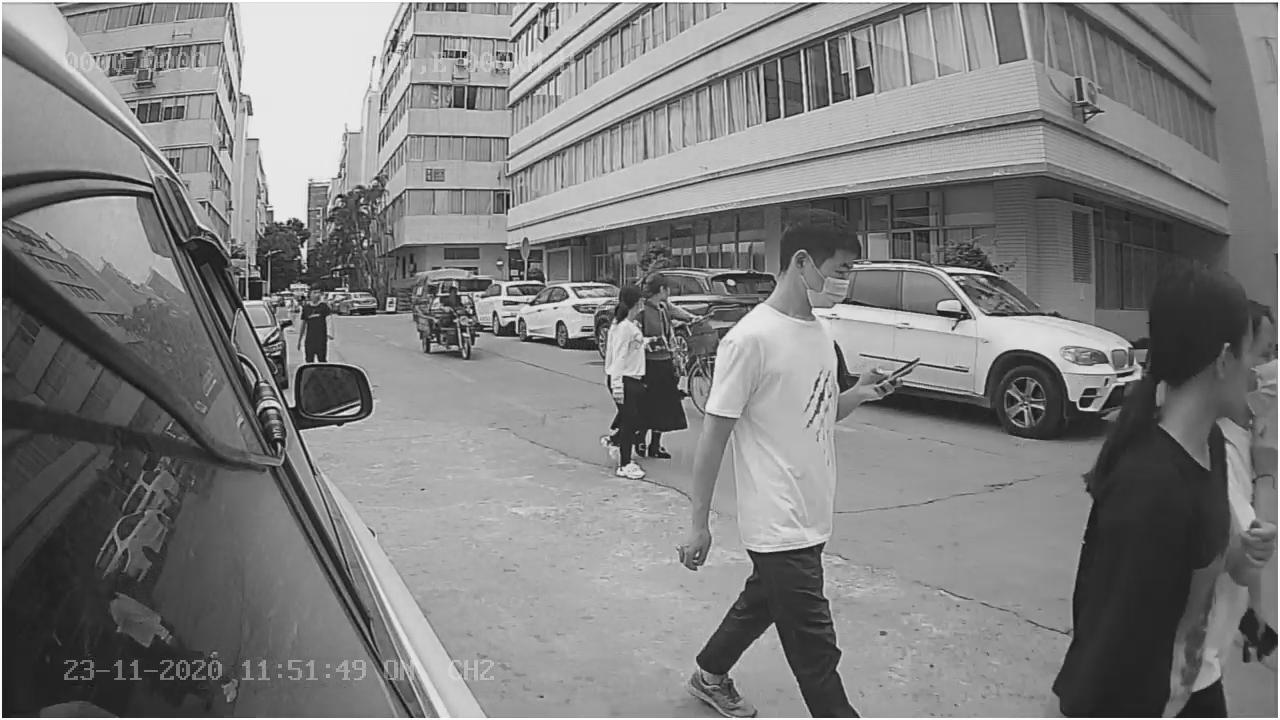person: (594, 277, 653, 483)
